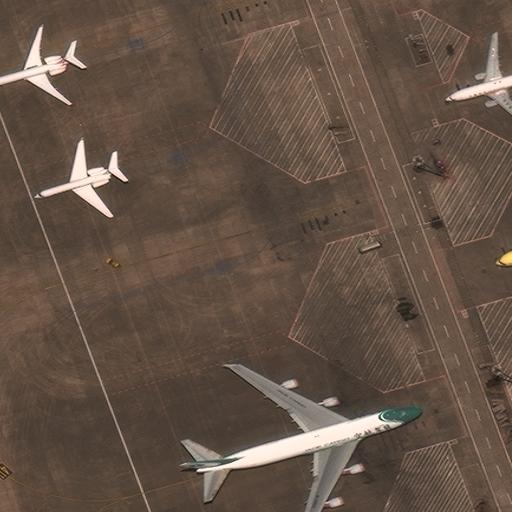Large Civil Transport: (195, 363, 424, 511)
Medium Civil Transport: (32, 143, 120, 217), (0, 28, 75, 107), (444, 35, 512, 121)
